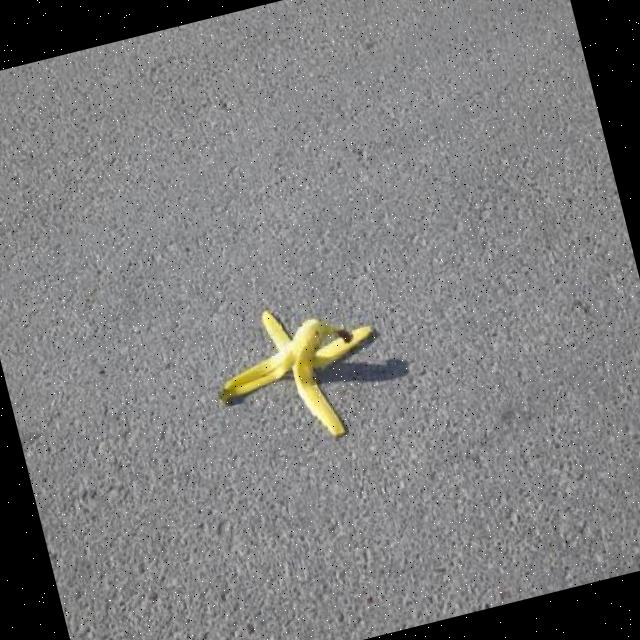banana-peel: (200, 284, 398, 463)
